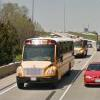Bus: (11, 33, 81, 91)
